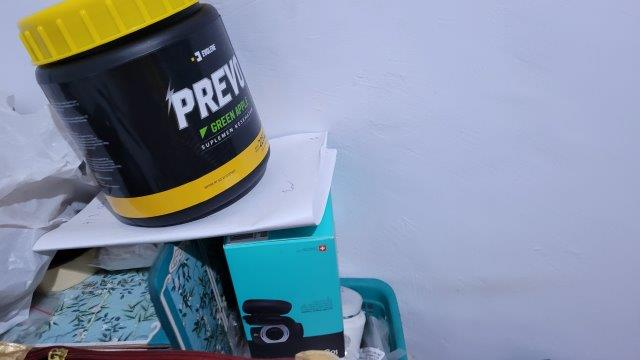kertas: (31, 131, 338, 254)
